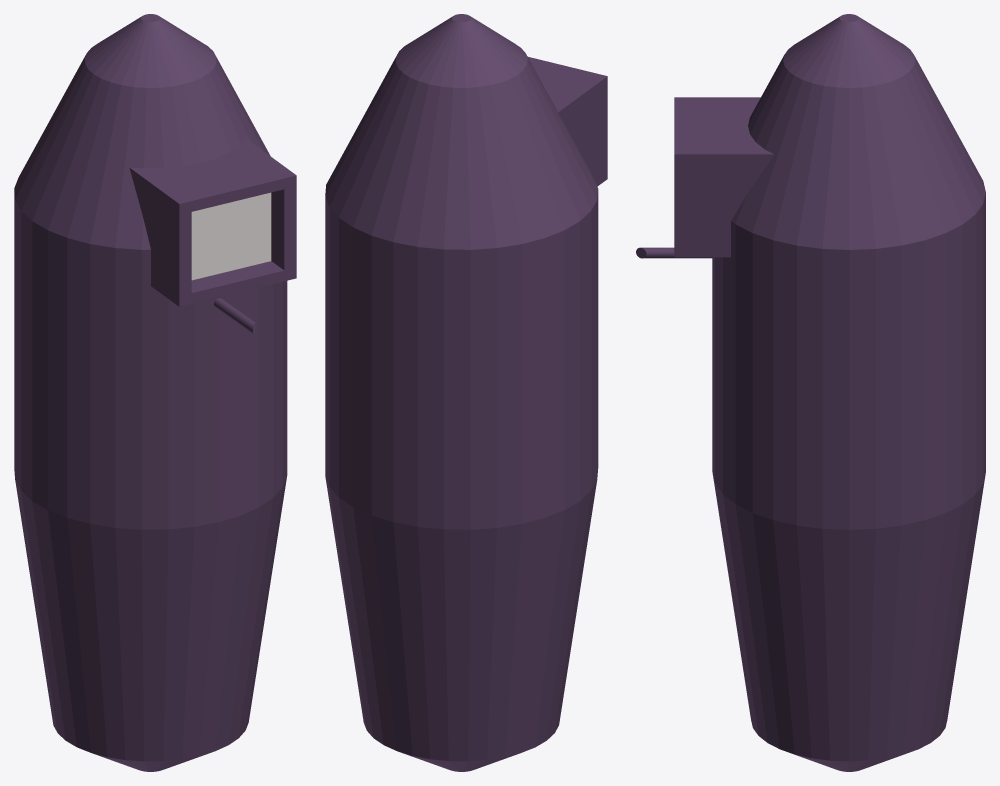
The model's file is BOB1.fbx.
The picture shows the model from 3 angles, left to right: view 1: azimuth 30°, elevation 25°; view 2: azimuth 150°, elevation 25°; view 3: azimuth 270°, elevation 25°; orthographic projection.
Visible parts, largest first — view 1: Cube; view 2: Cube; view 3: Cube.
Boxes of the visible parts, x1,y1,x2,y2 form: Cube: (14,14,296,771); Cube: (325,14,607,771); Cube: (636,14,985,771).
Bounding box in the file's own units: 2 × 6.02 × 2.56.
